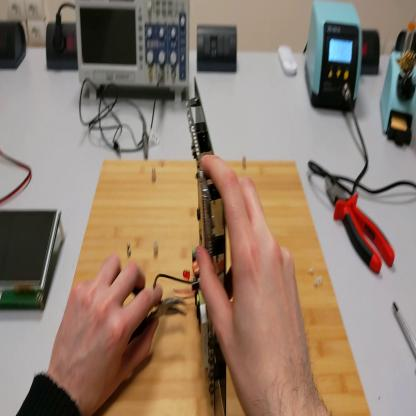hand: (194, 154, 317, 415), (53, 253, 163, 416)
low voltage board: (156, 78, 226, 416)
oscilloscope: (77, 1, 191, 109)
oscilloscope probe tip: (140, 112, 151, 159)
pliers: (326, 176, 395, 279), (135, 280, 192, 334)
screwdriver-: (394, 303, 416, 354)
socket: (47, 20, 80, 74), (2, 20, 30, 75), (364, 27, 381, 78), (395, 28, 416, 53)
welder base: (381, 22, 416, 149)
welder station: (306, 4, 364, 122)
working area: (73, 157, 372, 415)
